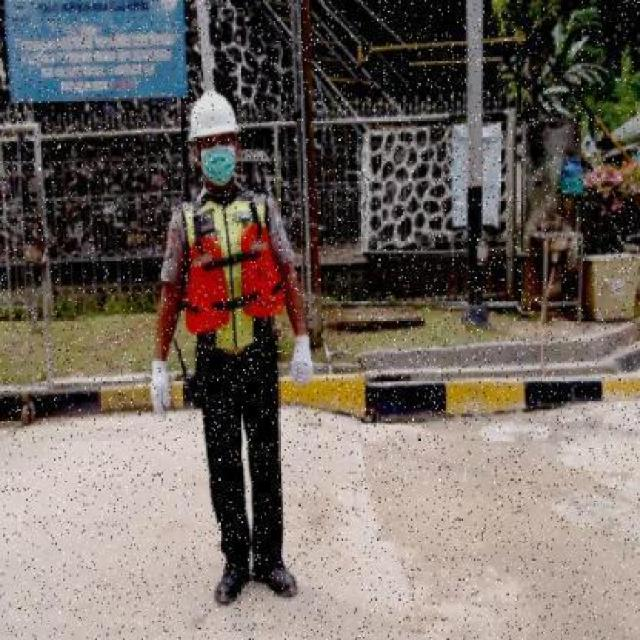Boots: (214, 555, 251, 611), (253, 562, 301, 603)
Gloves: (148, 354, 174, 426), (289, 332, 320, 392)
Helmet: (187, 86, 241, 145)
Mask: (199, 148, 239, 187)
Vest: (182, 218, 286, 336)
